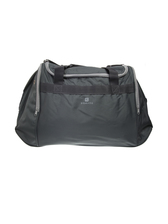bag: (14, 56, 156, 149)
